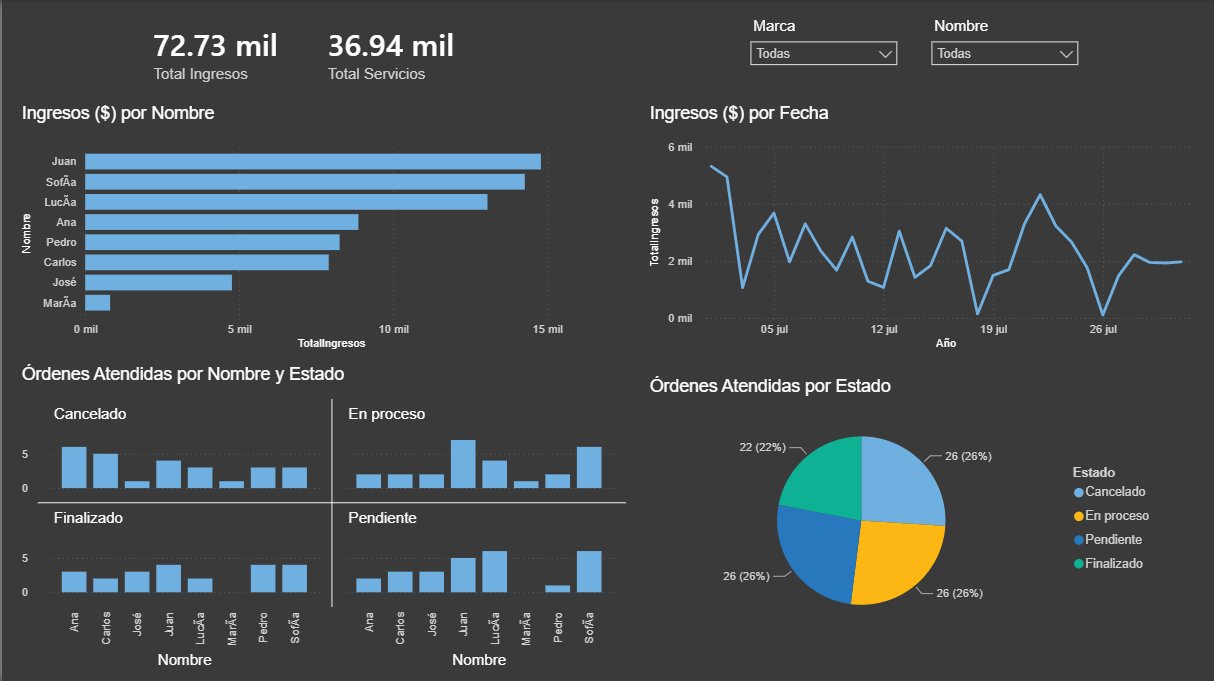

What the dashboard file says about the page in this screenshot:
{"tool":"powerbi","page":{"name":"Gestión de órdenes de servicio","canvas":[1280,720],"ordinal":0},"visuals":[{"type":"cardVisual","fields":{"Data":["Cliente.TotalIngresos","Cliente.TotalServicios"]},"box":[129.8,0,391.7,96.7],"z":0},{"type":"barChart","title":"Ingresos ($) por Nombre","fields":{"Category":["Tecnico.Nombre"],"Y":["Cliente.TotalIngresos"]},"box":[41.1,96.4,570.6,273.7],"z":1000},{"type":"clusteredColumnChart","title":"Órdenes Atendidas por Nombre y Estado","fields":{"Category":["Tecnico.Nombre"],"Rows":["OrdenServicio.Estado"],"Y":["Tecnico.TotalOrdenes"]},"box":[51.4,385.5,588.6,307.1],"z":2000},{"type":"lineChart","title":"Ingresos ($) por Fecha","fields":{"Y":["Cliente.TotalIngresos"],"Category":["OrdenServicio.FechaIngreso.Variación.Jerarquía de fechas.Año","OrdenServicio.FechaIngreso.Variación.Jerarquía de fechas.Trimestre","OrdenServicio.FechaIngreso.Variación.Jerarquía de fechas.Mes","OrdenServicio.FechaIngreso.Variación.Jerarquía de fechas.Día"]},"box":[685,105.4,564.2,254.5],"z":3000},{"type":"pieChart","title":"Órdenes Atendidas por Estado","fields":{"Category":["OrdenServicio.Estado"],"Y":["Tecnico.TotalOrdenes"]},"box":[676,385.5,573.2,307.1],"z":4000},{"type":"slicer","fields":{"Values":["Tecnico.Nombre"]},"box":[967.7,14.1,175,68.3],"z":6000},{"type":"slicer","fields":{"Values":["Equipo.Marca"]},"box":[750.5,14.1,175,68.3],"z":7000}]}

Visuals, with their boxes in screenshot pixels (x1, y1, x2, y2), scaled from the page's 1280x720 canvas onto the 1214x681 screenshot:
cardVisual - Cliente.TotalIngresos x Cliente.TotalServicios: <bbox>123, 0, 495, 91</bbox>
"Ingresos ($) por Nombre" barChart: <bbox>39, 91, 580, 350</bbox>
"Órdenes Atendidas por Nombre y Estado" clusteredColumnChart: <bbox>49, 365, 607, 655</bbox>
"Ingresos ($) por Fecha" lineChart: <bbox>650, 100, 1185, 340</bbox>
"Órdenes Atendidas por Estado" pieChart: <bbox>641, 365, 1185, 655</bbox>
slicer - Tecnico.Nombre: <bbox>918, 13, 1084, 78</bbox>
slicer - Equipo.Marca: <bbox>712, 13, 878, 78</bbox>
